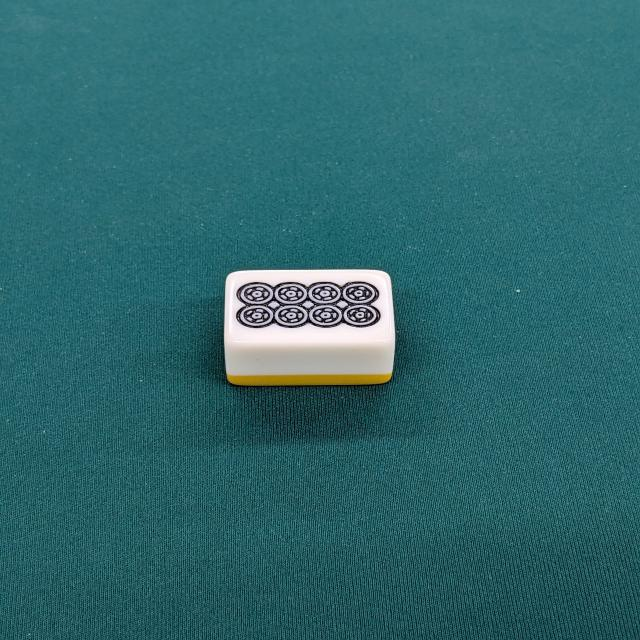8p: (222, 269, 396, 390)
